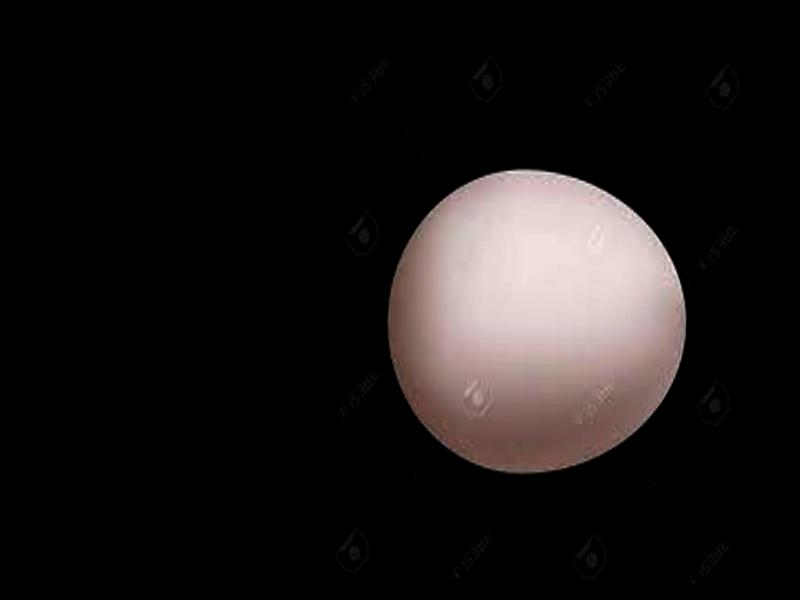Eggs: (384, 166, 688, 474)
